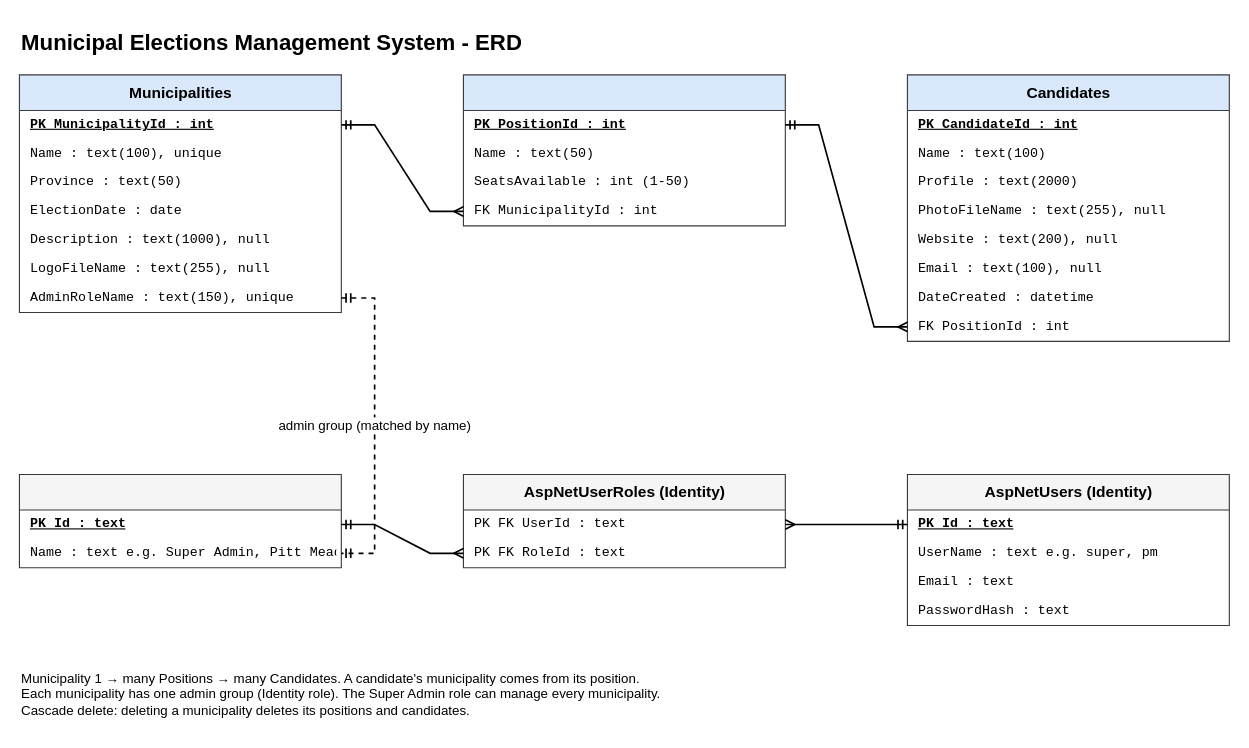
The diagram is 1249 pixels wide and 748 high, and some of its shapes have lost their labels. Here are the shapes that lost their labels. From the top down, the box of each, then its label:
(462, 74, 785, 226): Positions
(18, 473, 341, 568): AspNetRoles (Identity)
